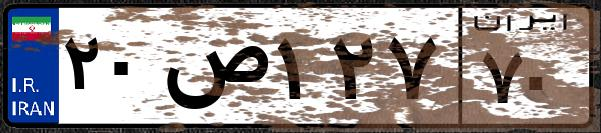0: (525, 38, 570, 115), (110, 28, 158, 98)
1: (270, 28, 330, 110)
2: (330, 28, 385, 110), (57, 26, 110, 100)
7: (385, 28, 445, 110), (475, 38, 525, 113)
ص: (158, 20, 270, 120)
